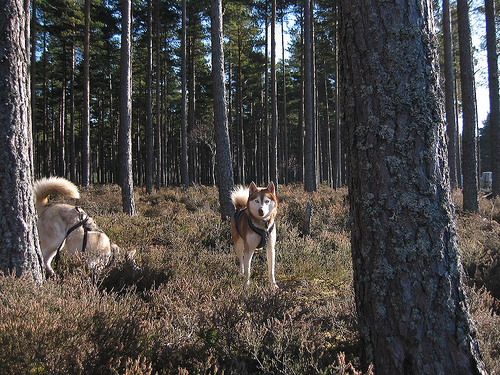dog: (33, 175, 141, 277), (230, 181, 278, 289)
